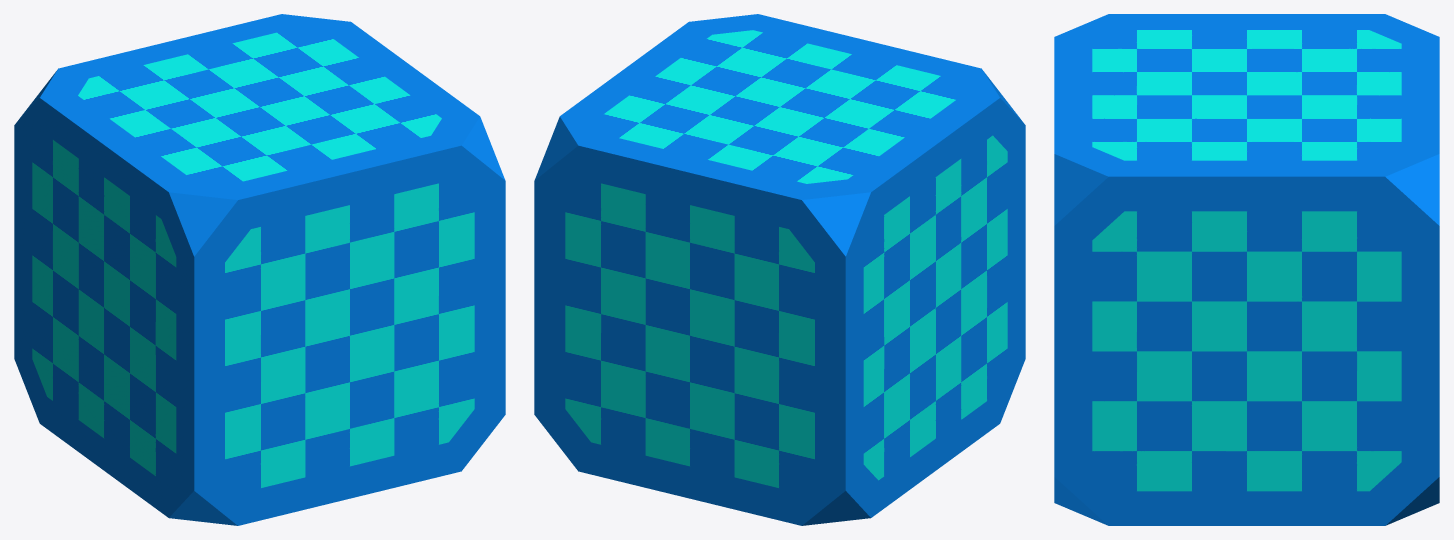
The model's file is MachineBossWrapParts.fbx.
3 views of the same model, side by side, from view 1: azimuth 30°, elevation 25°; view 2: azimuth 150°, elevation 25°; view 3: azimuth 270°, elevation 25° (orthographic). The views are drawn at different scales.
Visible parts, largest first — view 1: Cube, Cube.001; view 2: Cube, Cube.001; view 3: Cube, Cube.001.
Part boxes in pixels (x1,y1,x2,y2): Cube: (32, 30, 474, 490); Cube.001: (14, 14, 505, 525); Cube: (565, 30, 1007, 490); Cube.001: (534, 14, 1025, 525); Cube: (1092, 30, 1401, 491); Cube.001: (1054, 14, 1439, 525).
Bounding box in the file's own units: 105000 × 105000 × 105000.
Materials: 2 (2 with a texture image).
